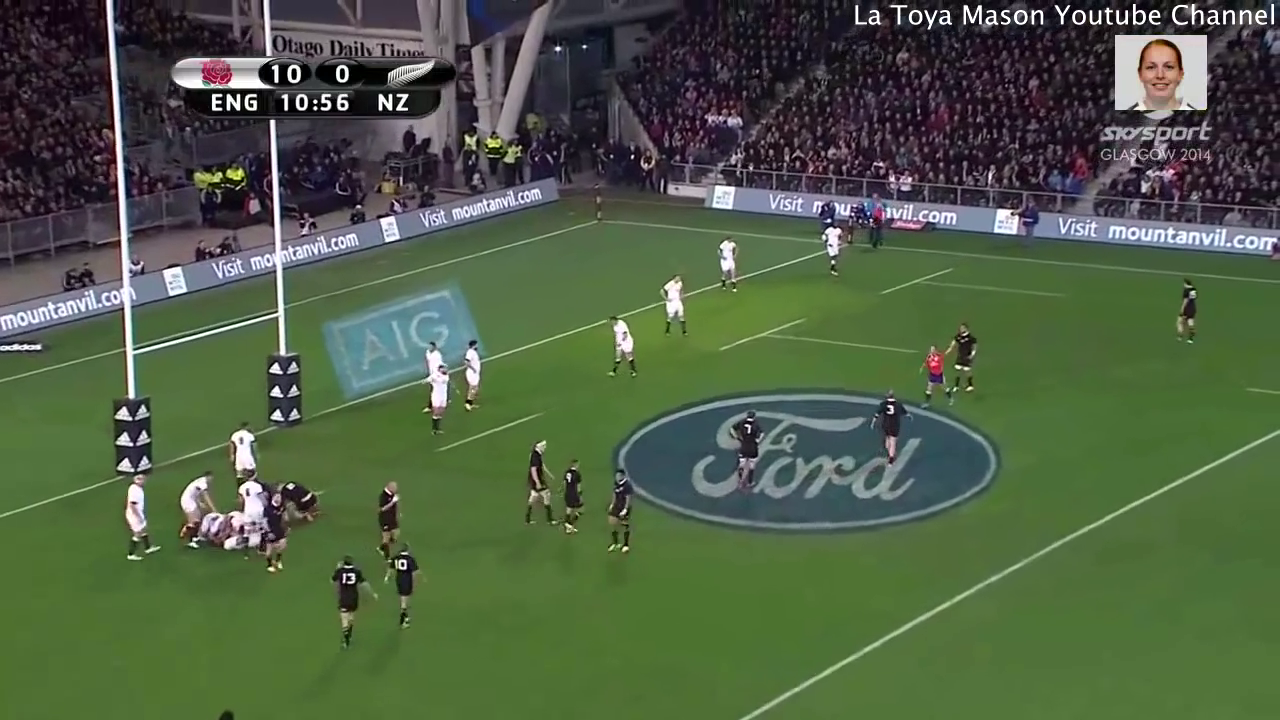player: (323, 550, 381, 658), (113, 461, 167, 564), (514, 432, 563, 538), (363, 473, 419, 558), (941, 316, 992, 406), (598, 464, 642, 563), (381, 533, 425, 632), (249, 486, 296, 576), (911, 340, 964, 419), (868, 384, 914, 473), (175, 501, 256, 550), (450, 333, 492, 424), (413, 360, 458, 443), (221, 416, 267, 493), (598, 307, 642, 387), (555, 452, 593, 543), (175, 463, 215, 548), (268, 475, 324, 529), (655, 265, 691, 347), (1169, 274, 1205, 352), (811, 216, 851, 284), (231, 461, 265, 541), (707, 232, 743, 303), (416, 336, 449, 382)
post: (93, 1, 315, 485)
ruck: (177, 480, 299, 563)
